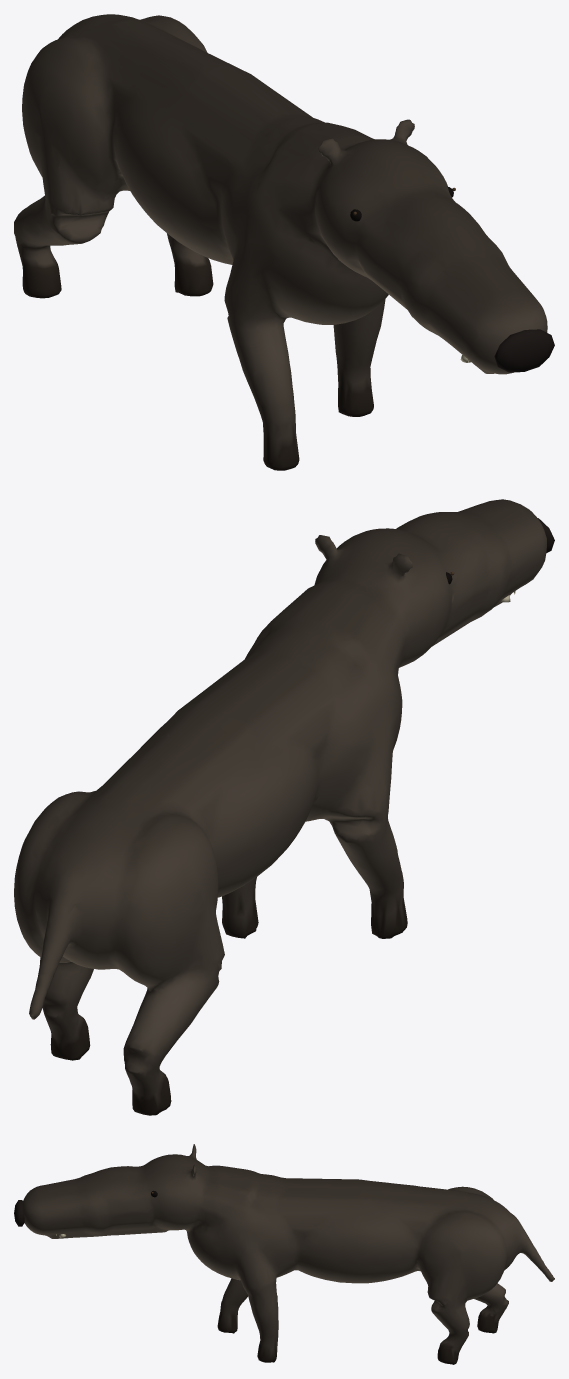
File: AndrewsarchusMongoliensis.fbx
3 views of the same model, one above another, from view 1: azimuth 30°, elevation 25°; view 2: azimuth 150°, elevation 25°; view 3: azimuth 270°, elevation 25° (orthographic). The views are drawn at different scales.
Visible parts, largest first — view 1: AndrewsarchusMongoliensis; view 2: AndrewsarchusMongoliensis; view 3: AndrewsarchusMongoliensis.
Boxes of the visible parts, box(x1,y1,x2,y2) form: AndrewsarchusMongoliensis: box(14, 14, 554, 470); AndrewsarchusMongoliensis: box(14, 499, 554, 1115); AndrewsarchusMongoliensis: box(14, 1144, 554, 1364).
Size of the model in its own units: 0.5042 by 0.9531 by 2.45.
